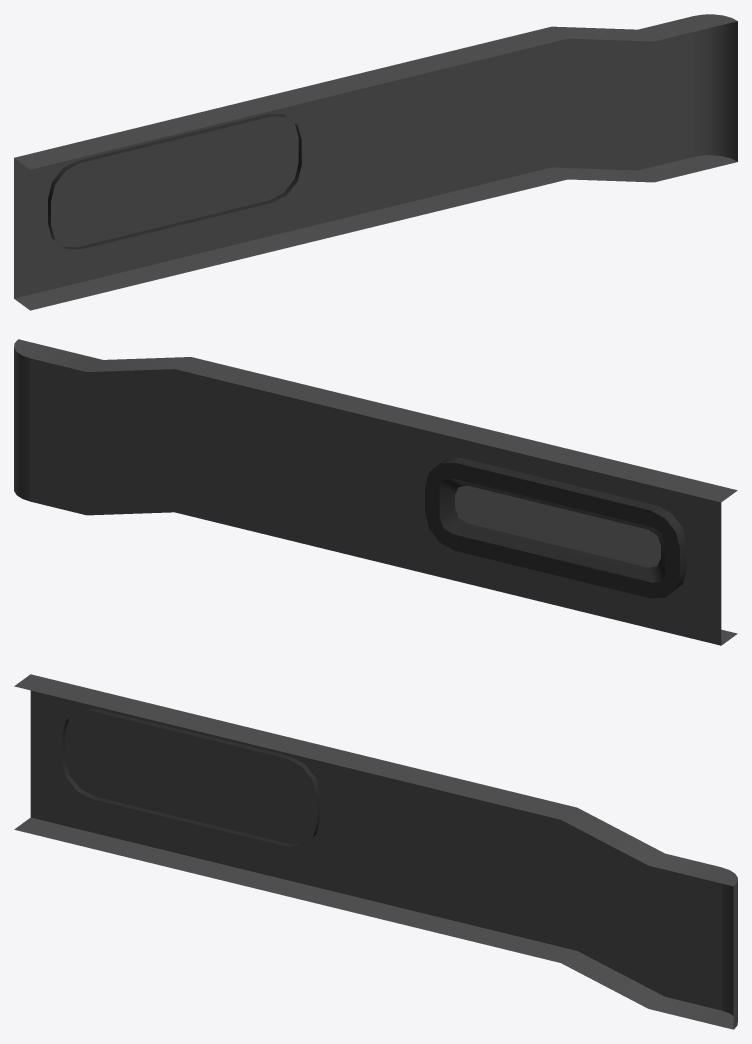
File: SM_wall_front_019.fbx
3 renders of one model, top to bottom at view 1: azimuth 30°, elevation 25°; view 2: azimuth 150°, elevation 25°; view 3: azimuth 330°, elevation 25°, orthographic.
Parts seen in each view (by area): view 1: SM_wall_front_018; view 2: SM_wall_front_018; view 3: SM_wall_front_018.
Part boxes in pixels (bbox=[...]): SM_wall_front_018: bbox=[14, 14, 737, 310]; SM_wall_front_018: bbox=[14, 339, 737, 645]; SM_wall_front_018: bbox=[14, 674, 737, 1029].
Size of the model in its own units: 256 by 57.08 by 14.38.
2 materials, 2 textured.
